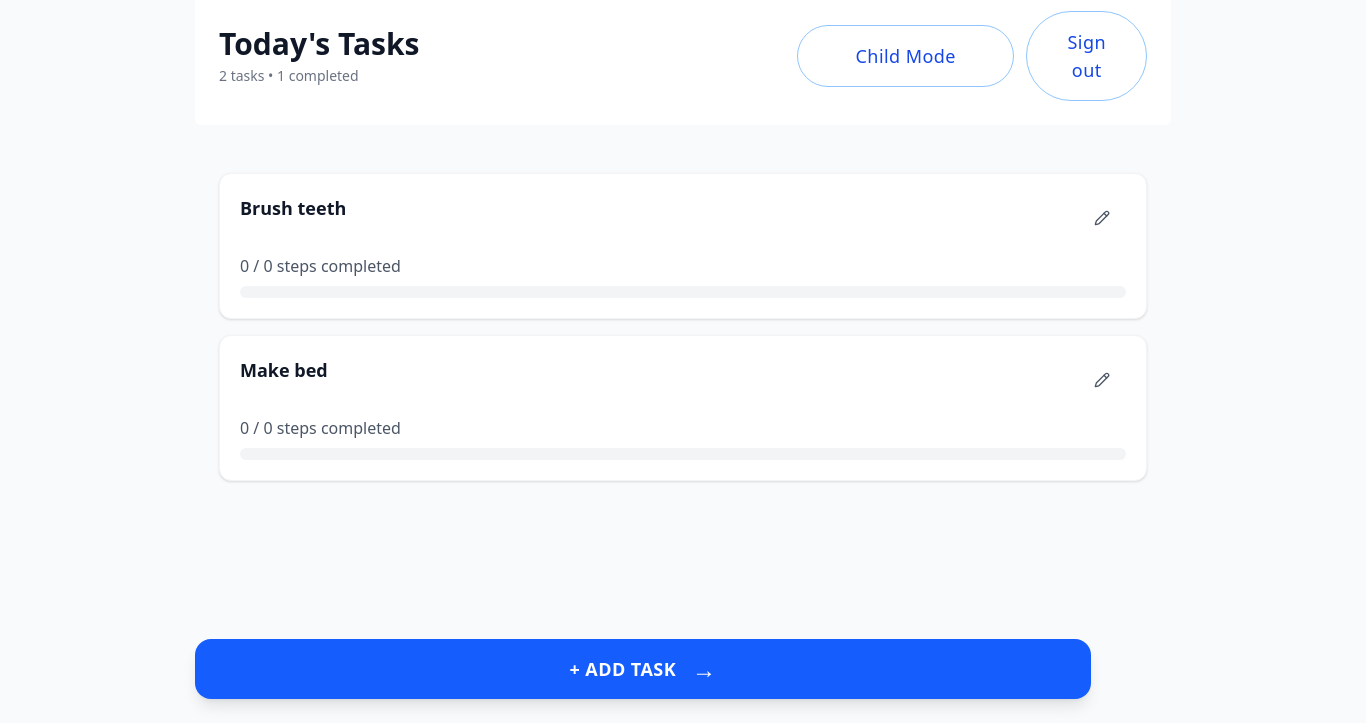
Test: ParentScreen › opens the edit form pre-filled when a task's edit button is clicked
Click the button named "edit task" in the row of "Brush teeth": (1102,218) [1078,194,1126,242]
(page scrolled)
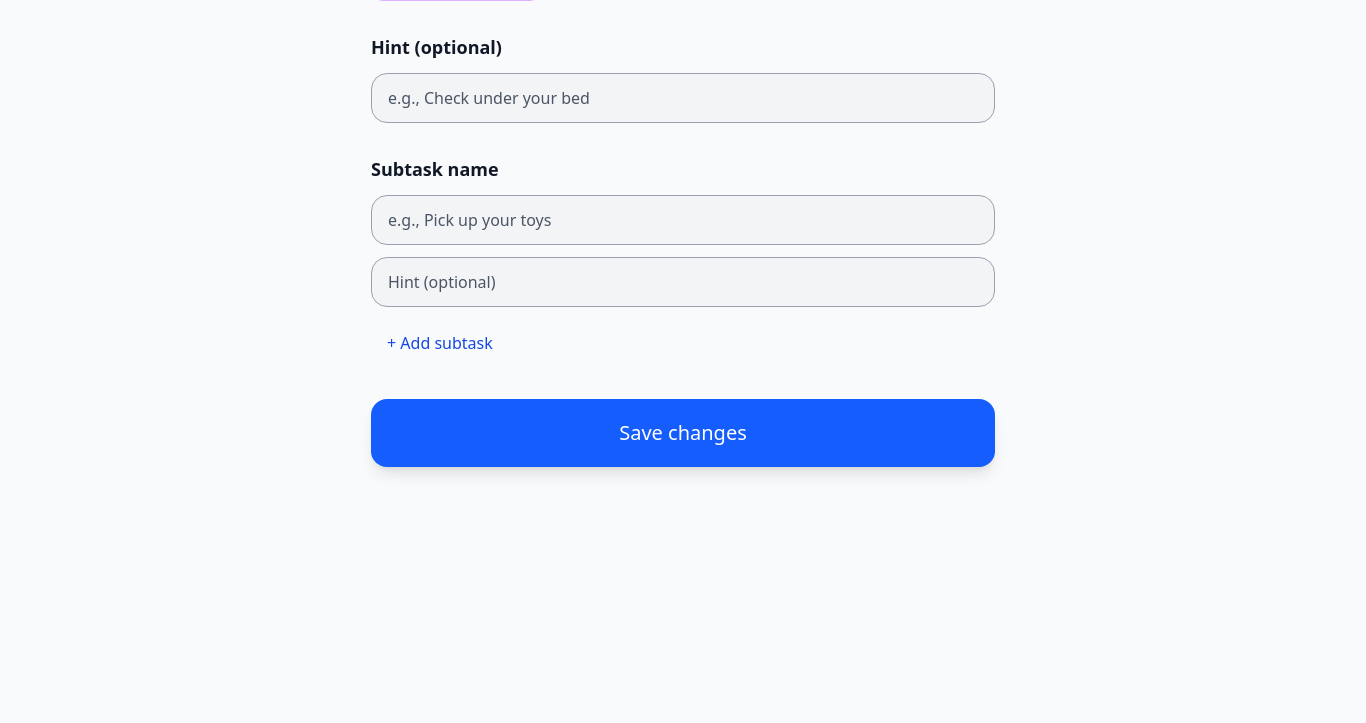
Result: the button "Save changes" is shown at [371,399,995,467]
